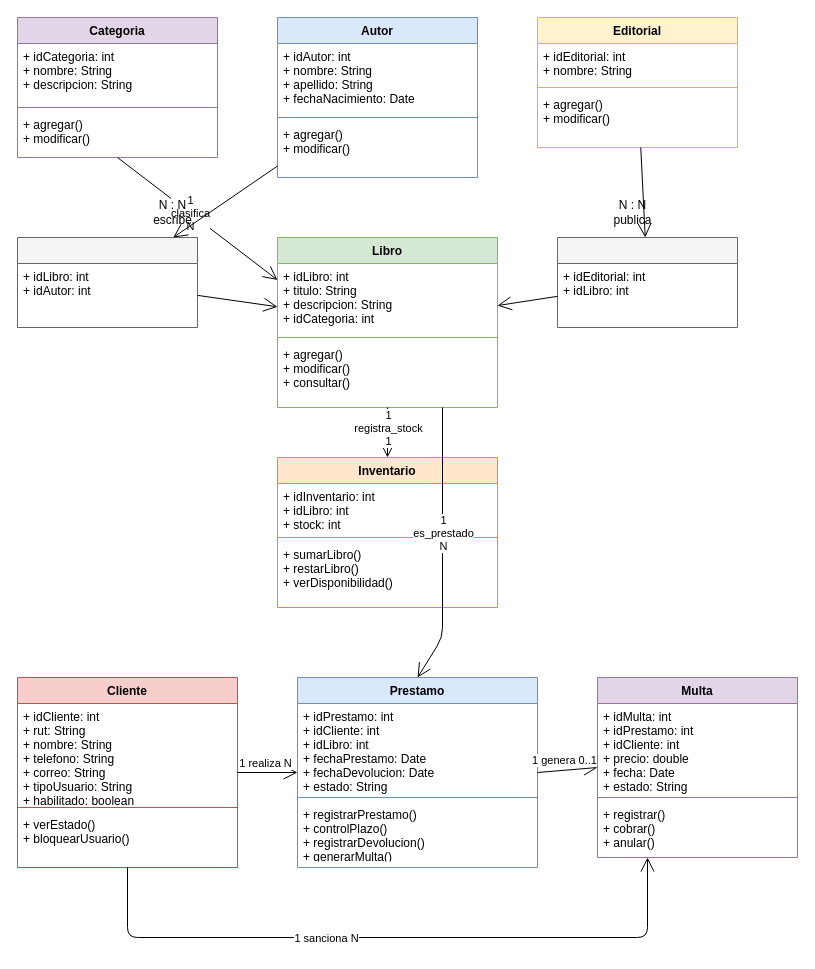
This 815x969 diagram has some shape labels left out. Each missing label, with the box of its shape:
EditorialLibro: (556, 236, 738, 328)
LibroAutor: (16, 236, 198, 328)
